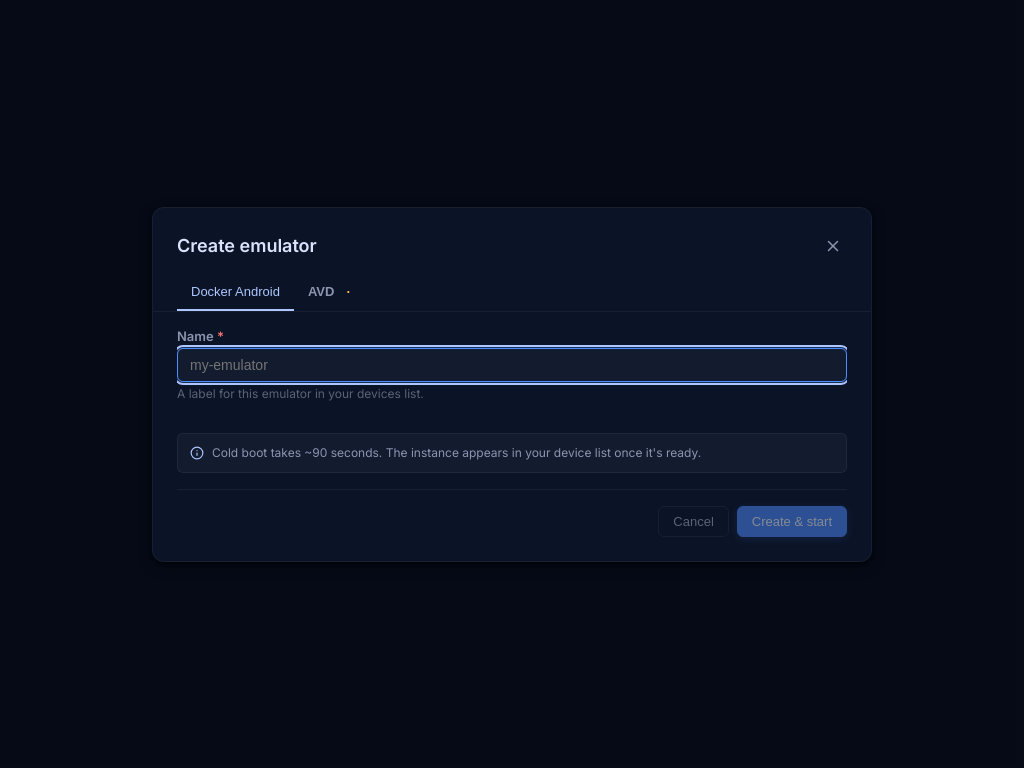
Test case: CreateEmulatorModal › shows installHint when an unavailable tab is selected
Click the tab "AVD ·". click: (329, 293)
box: [294, 276, 365, 310]
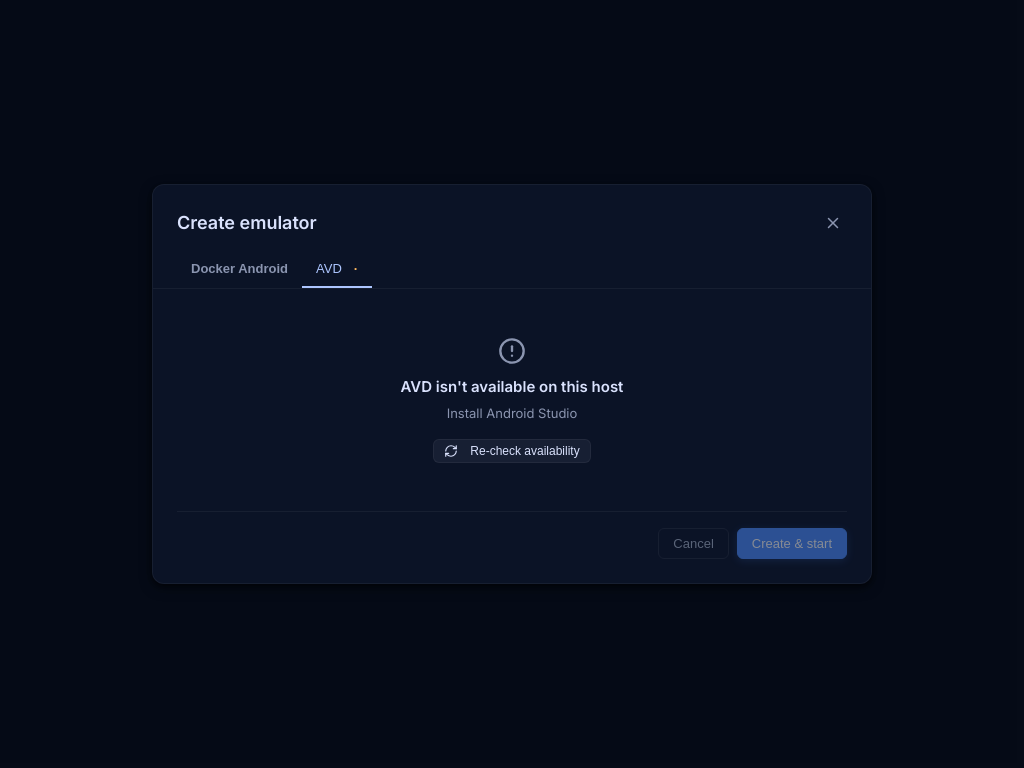
Now the text "Install Android Studio" is shown, box [447, 404, 577, 423]
